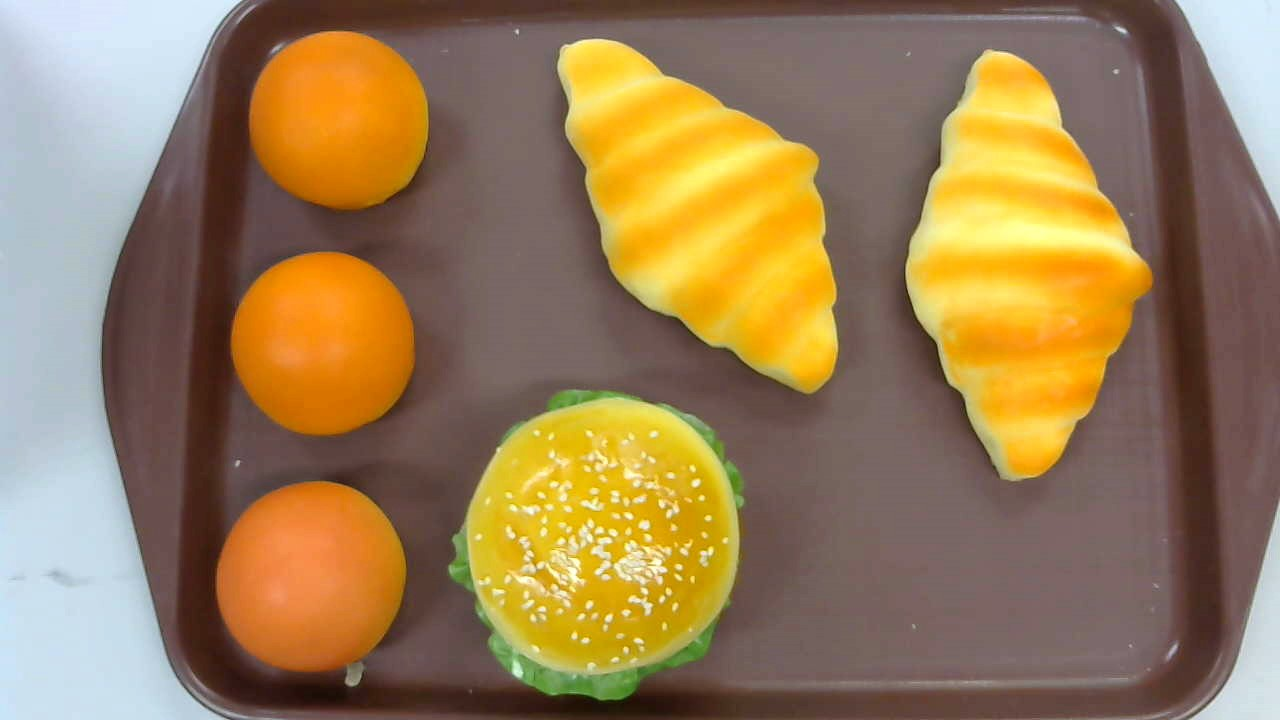bun: (216, 481, 406, 674), (228, 251, 416, 436), (246, 30, 430, 211)
croissant: (903, 49, 1154, 481), (557, 38, 839, 394)
hamburger: (449, 388, 745, 702)
